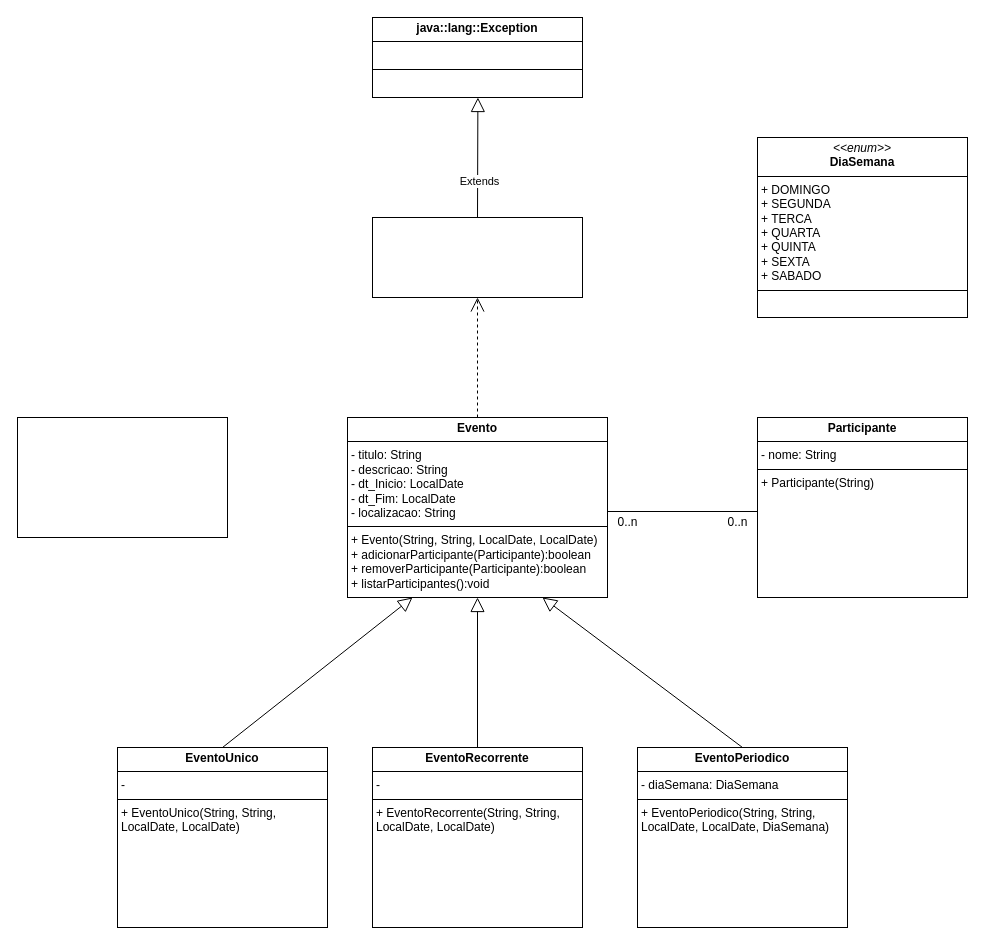
This 985x945 diagram has some shape labels left out. Each missing label, with the centre of its shape:
DataInvalidaException: the point at 477,257
Program application main(String[]):void: the point at 122,477
